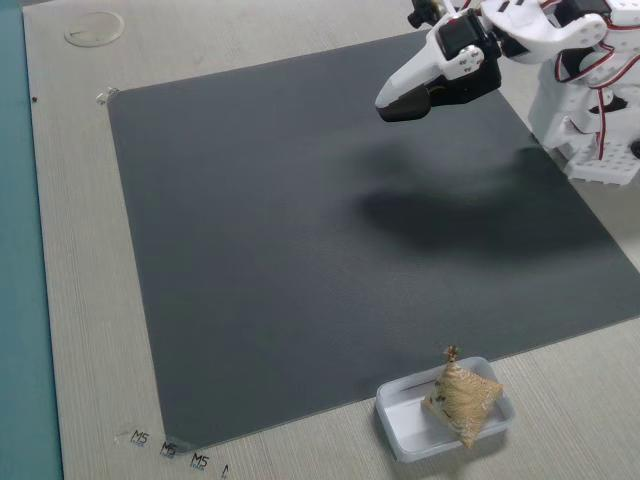gripper: (364, 4, 506, 129)
